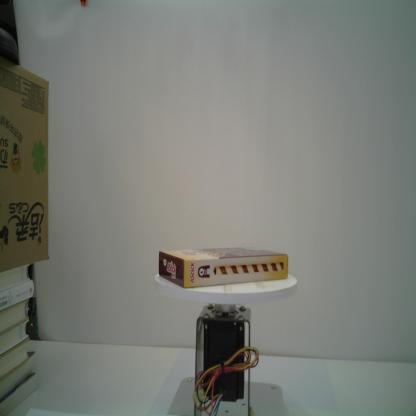Dessert: (157, 245, 289, 289)
